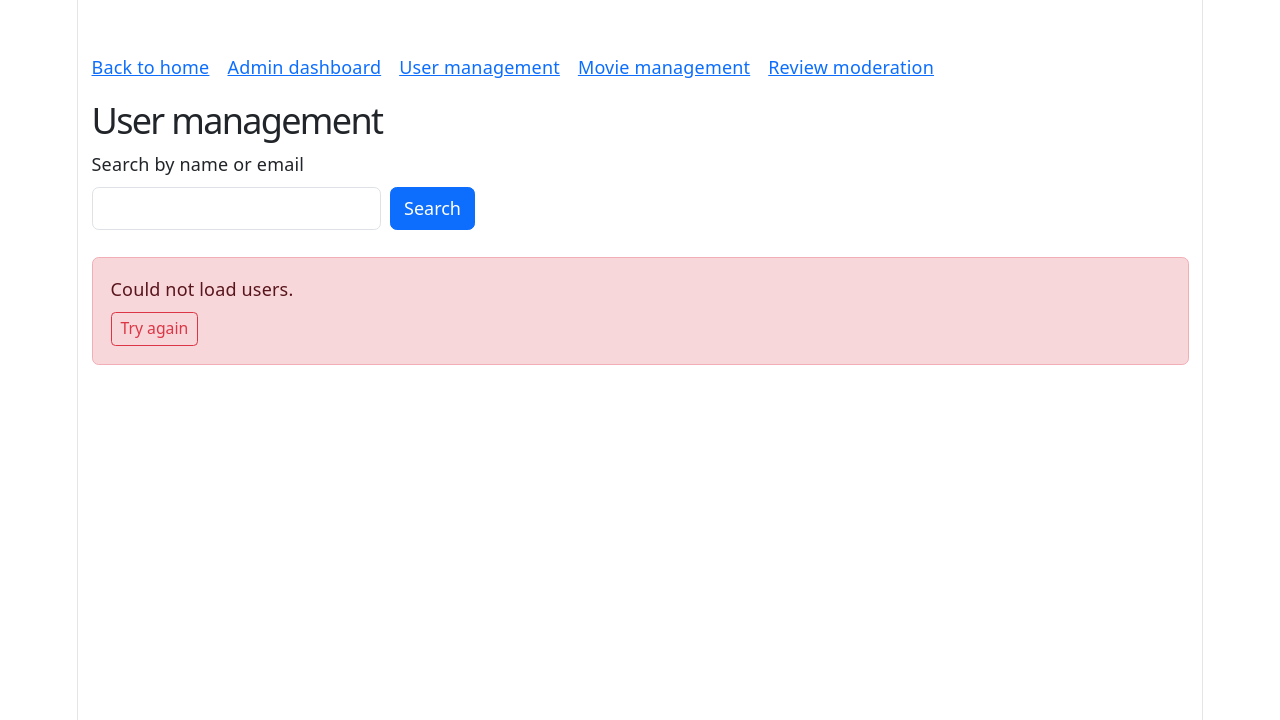
Scenario: shows an error, retries the search, and distinguishes an empty result
The image size is (1280, 720).
Expected: the message shows "Could not load users.", 110,277 -> 293,301
Step 1. Click the button "Try again" → (154, 329), box 110,312 -> 198,346
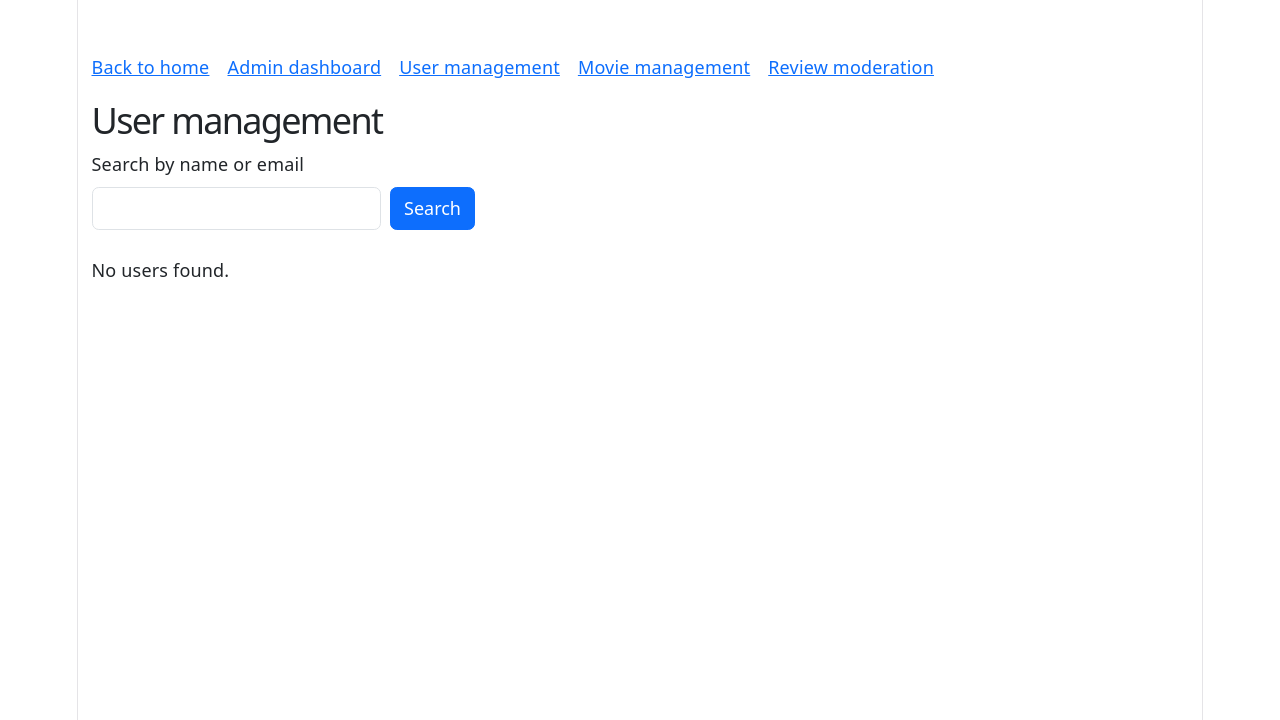
Result: the text "No users found." is shown at 92,258 -> 229,282
